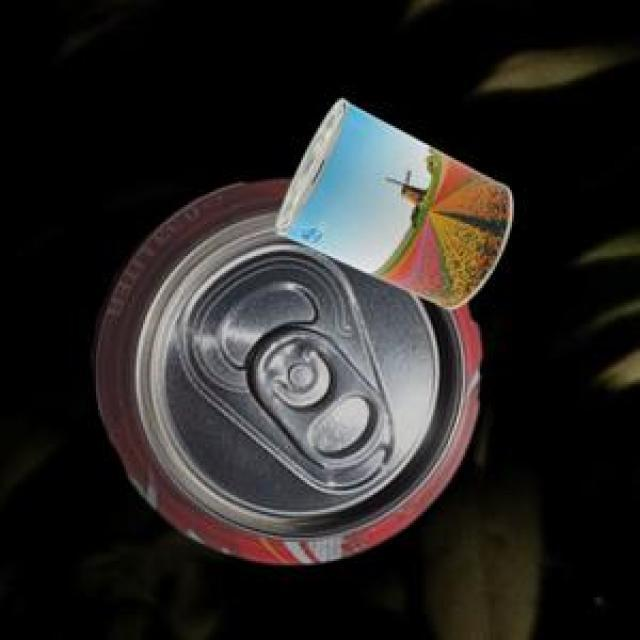Can: (89, 176, 479, 560), (272, 95, 509, 306)
